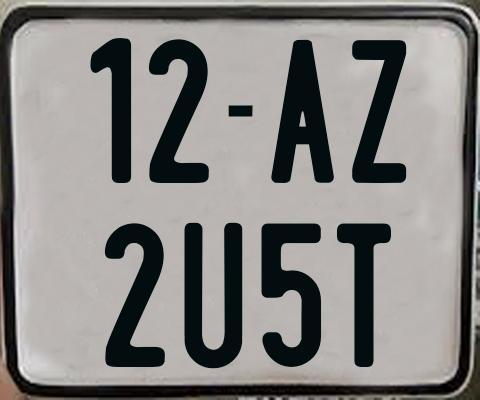1: (89, 35, 135, 186)
2: (146, 39, 208, 188), (104, 223, 167, 368)
5: (259, 223, 321, 369)
A: (268, 40, 337, 188)
T: (335, 220, 392, 369)
U: (184, 223, 248, 369)
Z: (349, 40, 406, 186)
